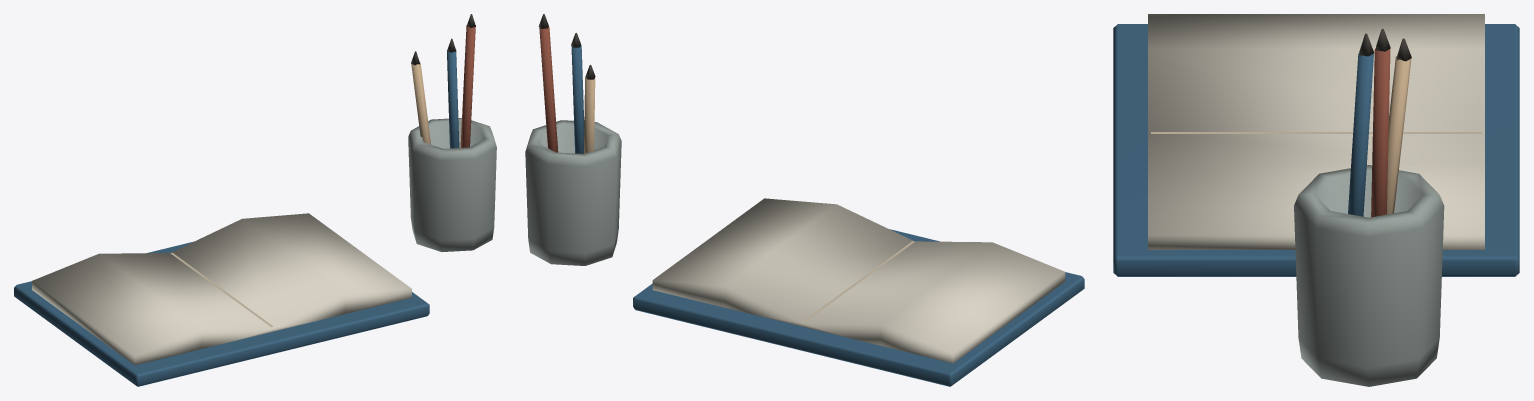
The model's file is desk_stationery.glb.
3 views of the same model, side by side, from view 1: azimuth 30°, elevation 25°; view 2: azimuth 150°, elevation 25°; view 3: azimuth 270°, elevation 25° (orthographic). The views are drawn at different scales.
Visible parts, largest first — view 1: Body; view 2: Body; view 3: Body.
Part boxes in pixels (left/top/right/bottom): Body: left=14, top=14, right=496, bottom=386; Body: left=525, top=14, right=1084, bottom=386; Body: left=1113, top=14, right=1519, bottom=386.
Size of the model in its own units: 0.545 by 0.255 by 0.27.
